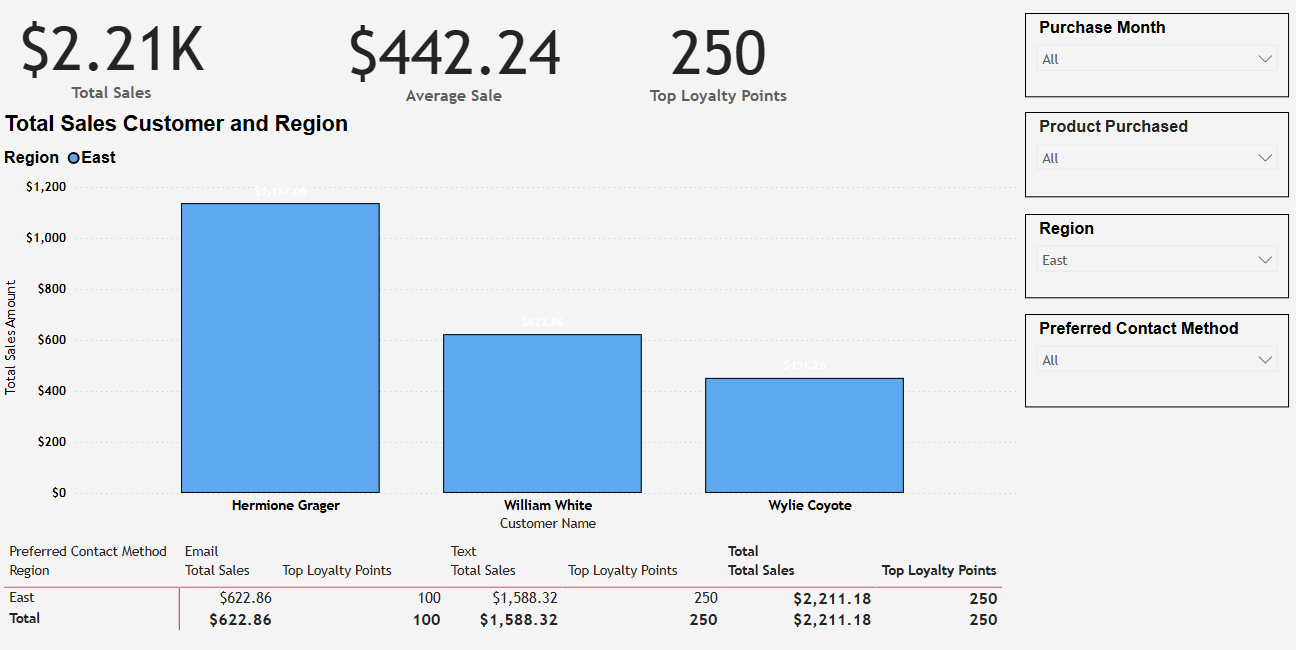

This screenshot's page, from the dashboard's own definition file:
{"tool":"powerbi","page":{"name":"Total Sales By Customer and Region","canvas":[1280,720],"ordinal":0},"visuals":[{"type":"columnChart","title":"Total Sales Customer and Region","fields":{"Category":["customer.name"],"Y":["sale.Total Sales"],"Series":["customer.region"]},"box":[0,115.2,1010.2,418.5],"z":0},{"type":"slicer","fields":{"Values":["sale.Month"]},"box":[1010.2,17.7,259.9,82.7],"z":1000},{"type":"slicer","fields":{"Values":["customer.region"]},"box":[1010.2,215.6,259.9,82.7],"z":2000},{"type":"slicer","fields":{"Values":["customer.preferred_contact_method"]},"box":[1010.2,314.1,259.9,91.6],"z":3000},{"type":"card","fields":{"Values":["sale.Total Sales"]},"box":[0,0,221.5,115.2],"z":4000},{"type":"card","fields":{"Values":["sale.Average Sale"]},"box":[320,0,256,122.1],"z":5000},{"type":"card","fields":{"Values":["customer.Top Loyalty Points"]},"box":[594.7,0,227.4,122.1],"z":6000},{"type":"pivotTable","fields":{"Rows":["customer.region"],"Columns":["customer.preferred_contact_method"],"Values":["sale.Total Sales","customer.Top Loyalty Points"]},"box":[0,533.7,1280,187.1],"z":7000},{"type":"slicer","fields":{"Values":["product.product_name"]},"box":[1010.2,115.2,259.9,83.7],"z":8000}]}

Visuals, with their boxes on the page's 1280x720 design canvas (x1, y1, x2, y2). These are canvas units, not pixel positions in the 1296x650 screenshot, which may show the page scaled, cropped or inside an application window:
"Total Sales Customer and Region" columnChart: <region>0, 115, 1010, 534</region>
slicer - sale.Month: <region>1010, 18, 1270, 100</region>
slicer - customer.region: <region>1010, 216, 1270, 298</region>
slicer - customer.preferred_contact_method: <region>1010, 314, 1270, 406</region>
card - sale.Total Sales: <region>0, 0, 222, 115</region>
card - sale.Average Sale: <region>320, 0, 576, 122</region>
card - customer.Top Loyalty Points: <region>595, 0, 822, 122</region>
pivotTable - customer.region x customer.preferred_contact_method: <region>0, 534, 1280, 721</region>
slicer - product.product_name: <region>1010, 115, 1270, 199</region>
